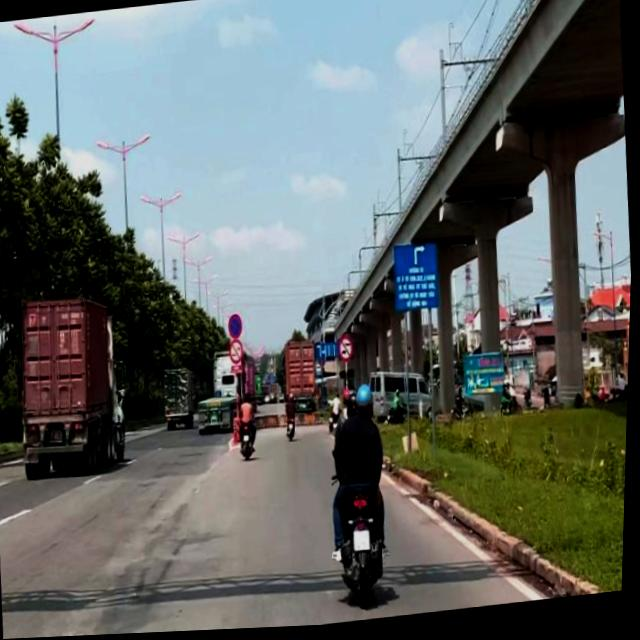Cam dung xe va do xe: (228, 314, 245, 342)
